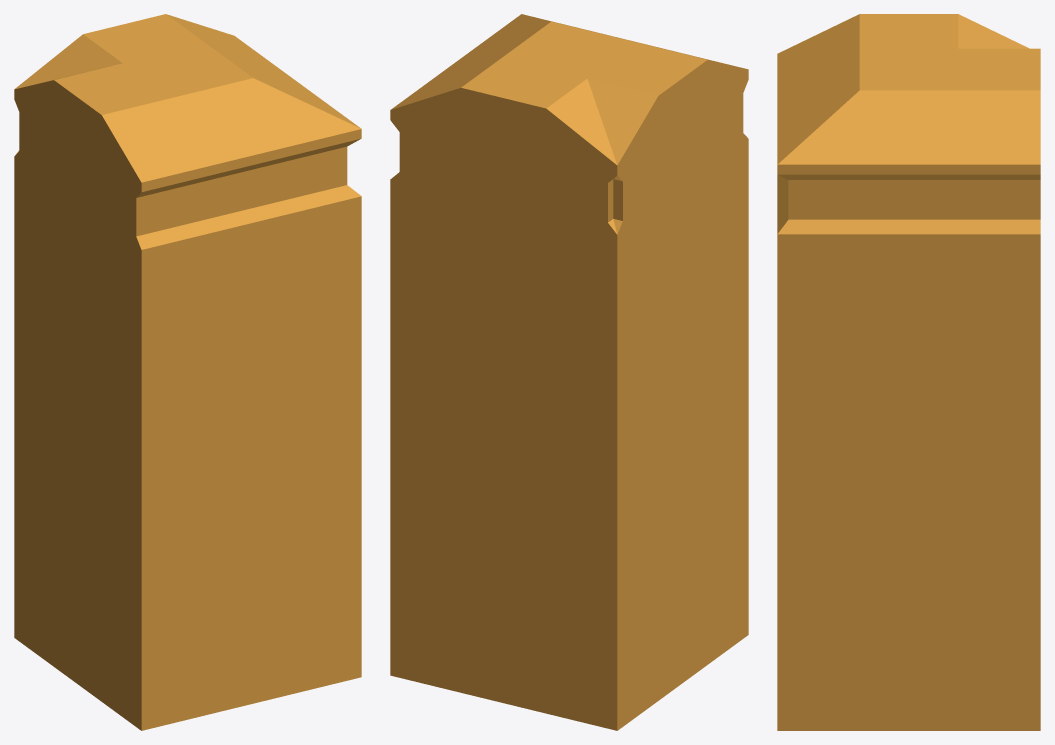
Rendered from india-wall-hindu-edge.glb.
3 views of the same model, side by side, from view 1: azimuth 30°, elevation 25°; view 2: azimuth 150°, elevation 25°; view 3: azimuth 270°, elevation 25° (orthographic). The views are drawn at different scales.
Parts seen in each view (by area): view 1: wall-hindu-edge; view 2: wall-hindu-edge; view 3: wall-hindu-edge.
Part boxes in pixels (bbox=[...]): wall-hindu-edge: bbox=[14, 14, 361, 730]; wall-hindu-edge: bbox=[390, 14, 748, 730]; wall-hindu-edge: bbox=[777, 14, 1040, 730].
Size of the model in its own units: 2.4 by 6.1 by 2.4.
